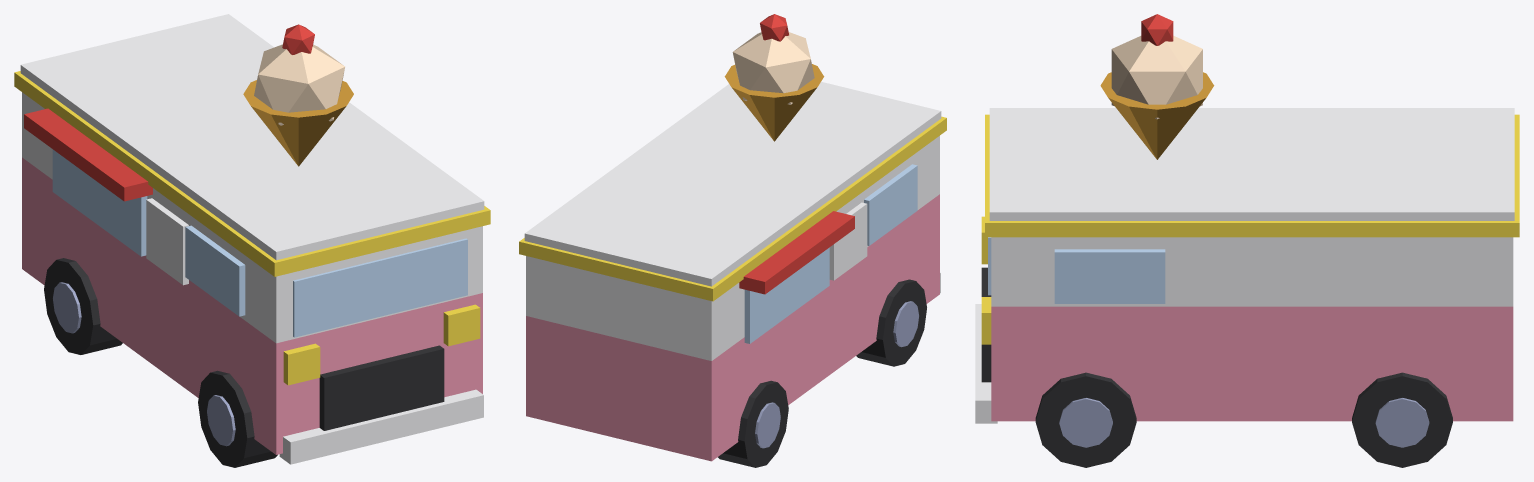
The model's file is ice-cream-truck.glb.
3 views of the same model, side by side, from view 1: azimuth 30°, elevation 25°; view 2: azimuth 150°, elevation 25°; view 3: azimuth 270°, elevation 25° (orthographic). The views are drawn at different scales.
Visible parts, largest first — view 1: ice_cream_roof_cap, ice_cream_body_lower, ice_cream_windshield, ice_cream_body_upper, ice_cream_roof_band, ice_cream_grille, ice_cream_bumper, ice_cream_roof_scoop, ice_cream_serving_window, ice_cream_awning, ice_cream_wheel_front_right, ice_cream_wheel_back_right (+8 smaller); view 2: ice_cream_roof_cap, ice_cream_body_lower, ice_cream_body_upper, ice_cream_roof_band, ice_cream_roof_scoop, ice_cream_serving_window, ice_cream_awning, ice_cream_wheel_front_right, ice_cream_wheel_back_right, ice_cream_roof_cone, ice_cream_cab_window_left, ice_cream_menu (+3 smaller); view 3: ice_cream_roof_cap, ice_cream_body_lower, ice_cream_body_upper, ice_cream_roof_band, ice_cream_cab_window_right, ice_cream_wheel_front_left, ice_cream_wheel_back_left, ice_cream_roof_scoop, ice_cream_roof_cone, ice_cream_hub_front_left, ice_cream_hub_back_left, ice_cream_bumper (+2 smaller).
Boxes of the visible parts, x1,y1,x2,y2 form: ice_cream_roof_cap: [20, 14, 484, 260]; ice_cream_body_lower: [22, 157, 482, 454]; ice_cream_windshield: [293, 238, 467, 337]; ice_cream_body_upper: [22, 92, 482, 343]; ice_cream_roof_band: [14, 71, 490, 276]; ice_cream_grille: [319, 345, 444, 430]; ice_cream_bumper: [279, 389, 483, 464]; ice_cream_roof_scoop: [254, 44, 344, 125]; ice_cream_serving_window: [52, 149, 147, 256]; ice_cream_awning: [24, 108, 152, 201]; ice_cream_wheel_front_right: [198, 370, 277, 467]; ice_cream_wheel_back_right: [44, 258, 122, 354]; ice_cream_roof_cap: [524, 81, 941, 286]; ice_cream_body_lower: [526, 194, 939, 461]; ice_cream_body_upper: [526, 136, 939, 360]; ice_cream_roof_band: [519, 116, 946, 301]; ice_cream_roof_scoop: [732, 32, 814, 104]; ice_cream_serving_window: [744, 247, 829, 343]; ice_cream_awning: [739, 211, 854, 294]; ice_cream_wheel_front_right: [856, 279, 926, 366]; ice_cream_wheel_back_right: [718, 380, 788, 467]; ice_cream_roof_cone: [724, 64, 824, 141]; ice_cream_cab_window_left: [864, 164, 917, 245]; ice_cream_menu: [829, 202, 867, 280]; ice_cream_roof_cap: [989, 108, 1514, 220]; ice_cream_body_lower: [991, 306, 1513, 421]; ice_cream_body_upper: [991, 237, 1513, 306]; ice_cream_roof_band: [985, 114, 1519, 237]; ice_cream_cab_window_right: [1054, 249, 1165, 303]; ice_cream_wheel_front_left: [1035, 372, 1136, 467]; ice_cream_wheel_back_left: [1352, 372, 1452, 467]; ice_cream_roof_scoop: [1111, 35, 1202, 119]; ice_cream_roof_cone: [1100, 72, 1214, 159]; ice_cream_hub_front_left: [1059, 398, 1112, 447]; ice_cream_hub_back_left: [1375, 398, 1429, 447]; ice_cream_bumper: [975, 304, 997, 423].
Bounding box in the file's own units: 1.84 × 2.78 × 3.44.
Materials: 9 (9 with a texture image).
